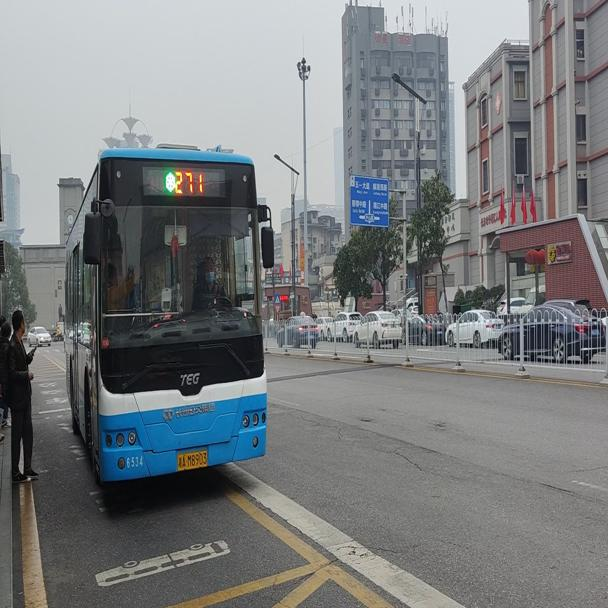bus: (62, 144, 276, 490)
screen: (173, 166, 204, 198)
